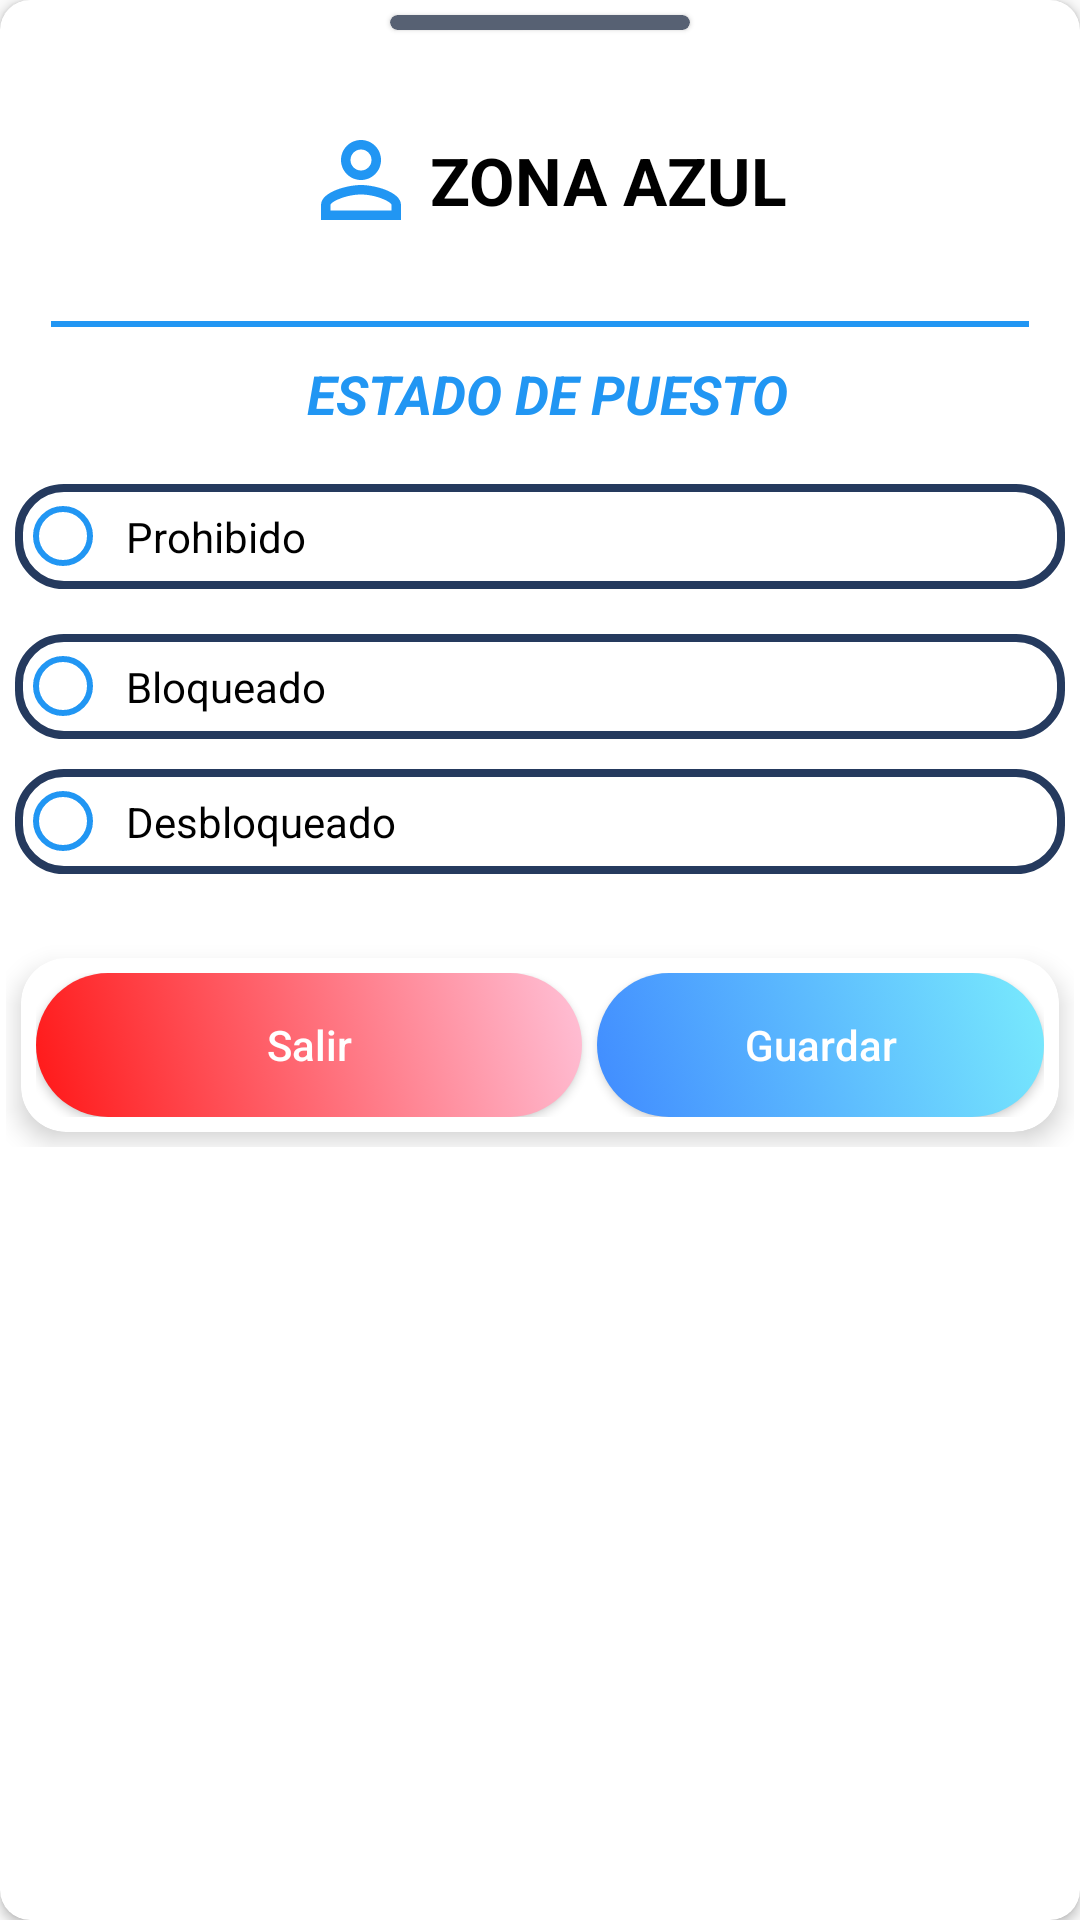

Icon click points for this 1080*1920 phone screenshot, format (x,y):
perfil: (361,180)
